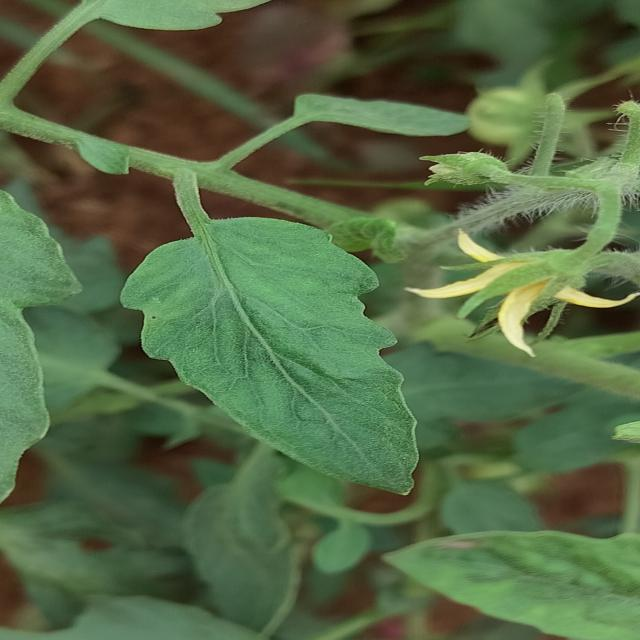tomato_healthy: (119, 214, 420, 496)
